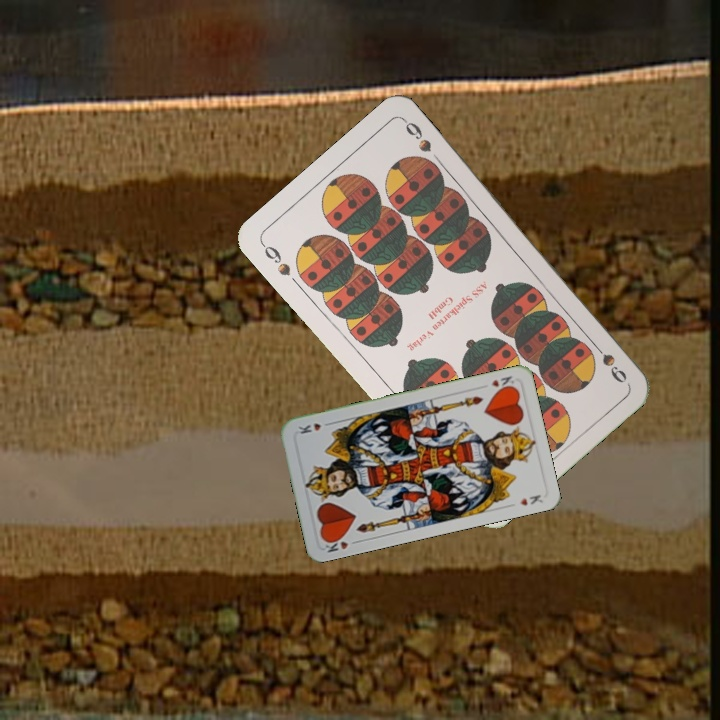HK: (319, 532, 361, 555), (487, 372, 519, 393)
S9: (587, 336, 630, 386), (257, 239, 294, 279)
